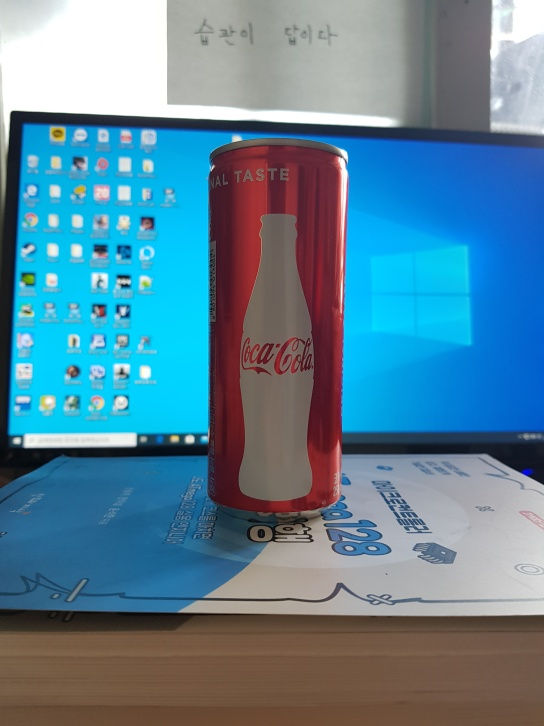Can: (205, 136, 354, 526)
